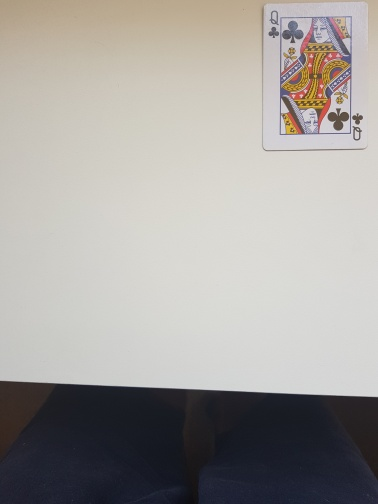queen: (260, 3, 370, 152)
